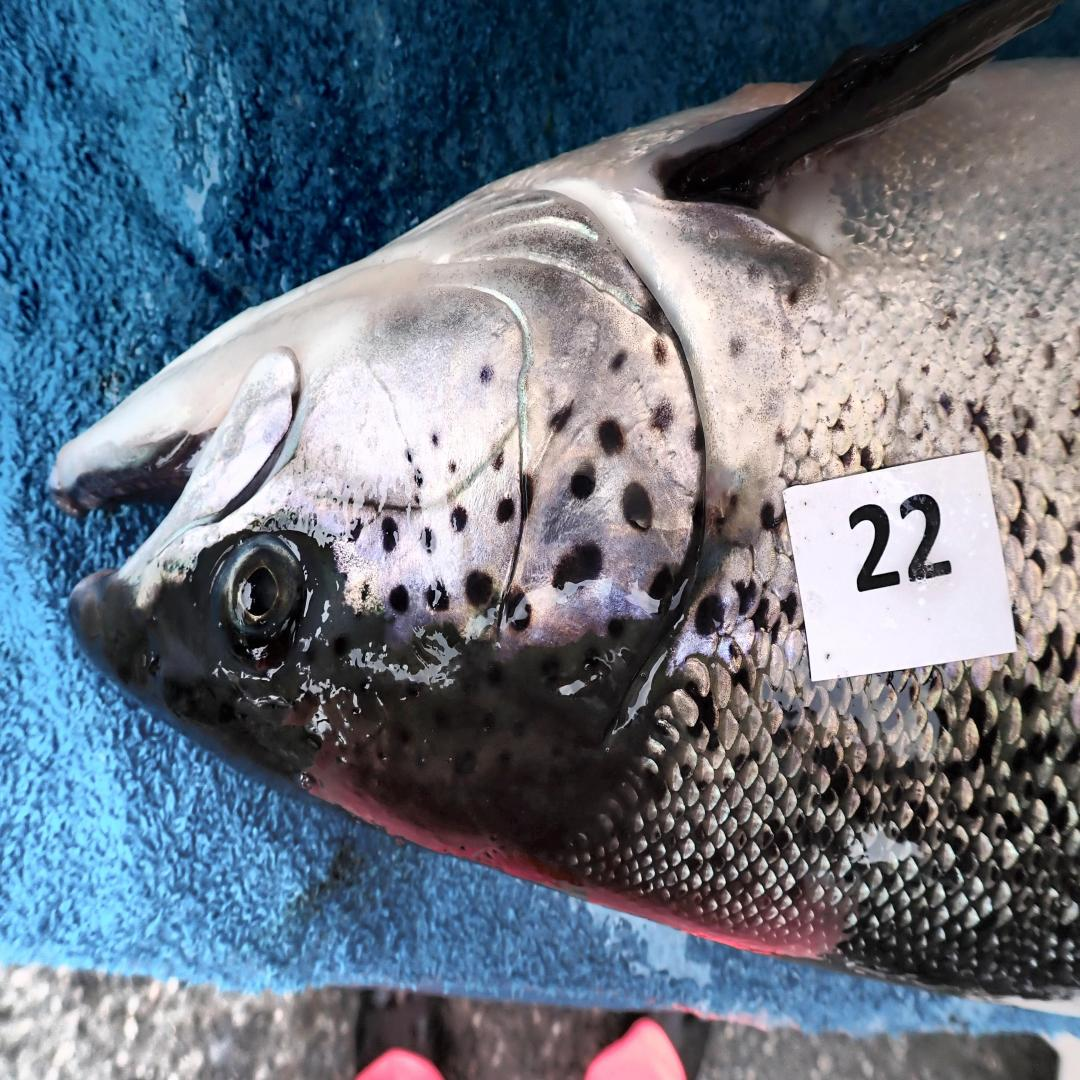spot: (553, 543, 601, 588), (645, 562, 681, 605), (622, 484, 652, 532), (502, 591, 532, 633), (466, 571, 494, 608), (597, 419, 624, 456), (519, 470, 538, 520), (548, 402, 574, 433), (650, 399, 673, 433), (570, 472, 595, 501), (426, 582, 449, 610), (382, 518, 399, 551), (390, 585, 409, 613), (420, 526, 437, 554), (652, 338, 669, 366), (496, 498, 515, 523), (610, 349, 629, 374), (451, 506, 468, 532), (693, 422, 704, 451), (479, 366, 494, 385), (350, 520, 363, 540), (447, 458, 460, 475), (360, 583, 370, 603), (413, 470, 424, 487), (494, 453, 504, 470), (431, 432, 438, 446), (406, 449, 412, 463)
